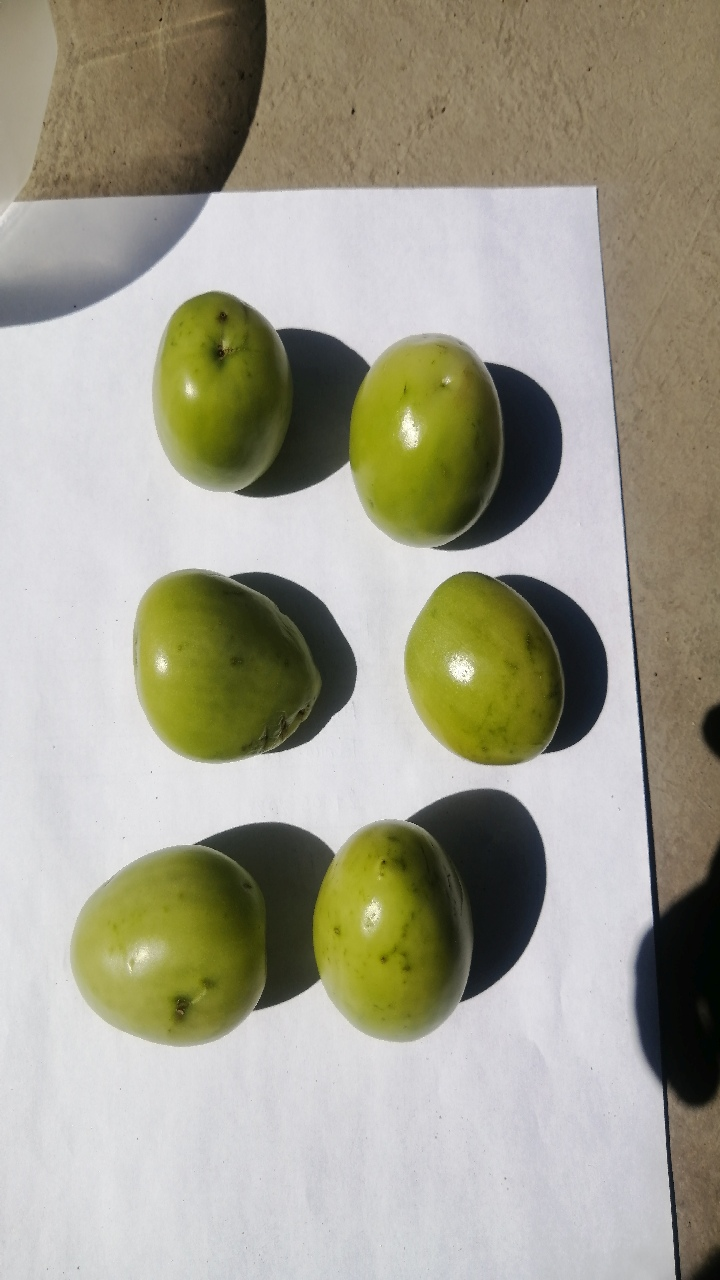tomateVerde: (44, 815, 280, 1080), (298, 809, 483, 1065), (118, 560, 332, 780), (320, 309, 498, 554), (137, 269, 309, 522), (392, 552, 575, 785)
